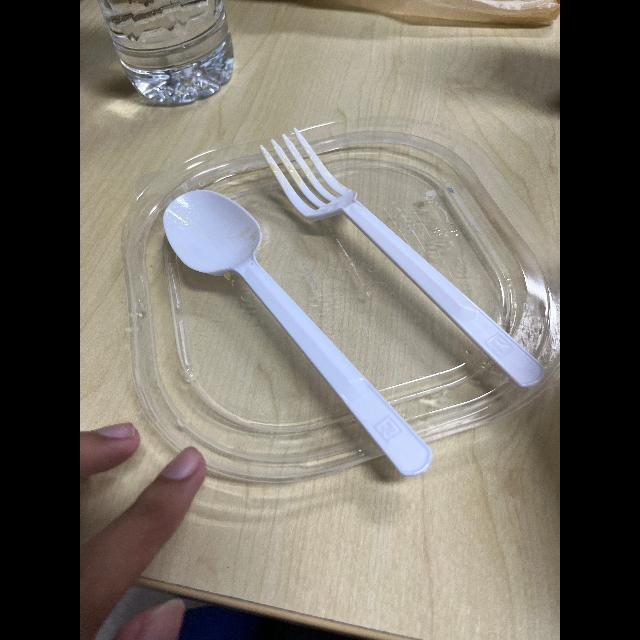plastic_cultery: (150, 196, 440, 492), (255, 116, 543, 388)
